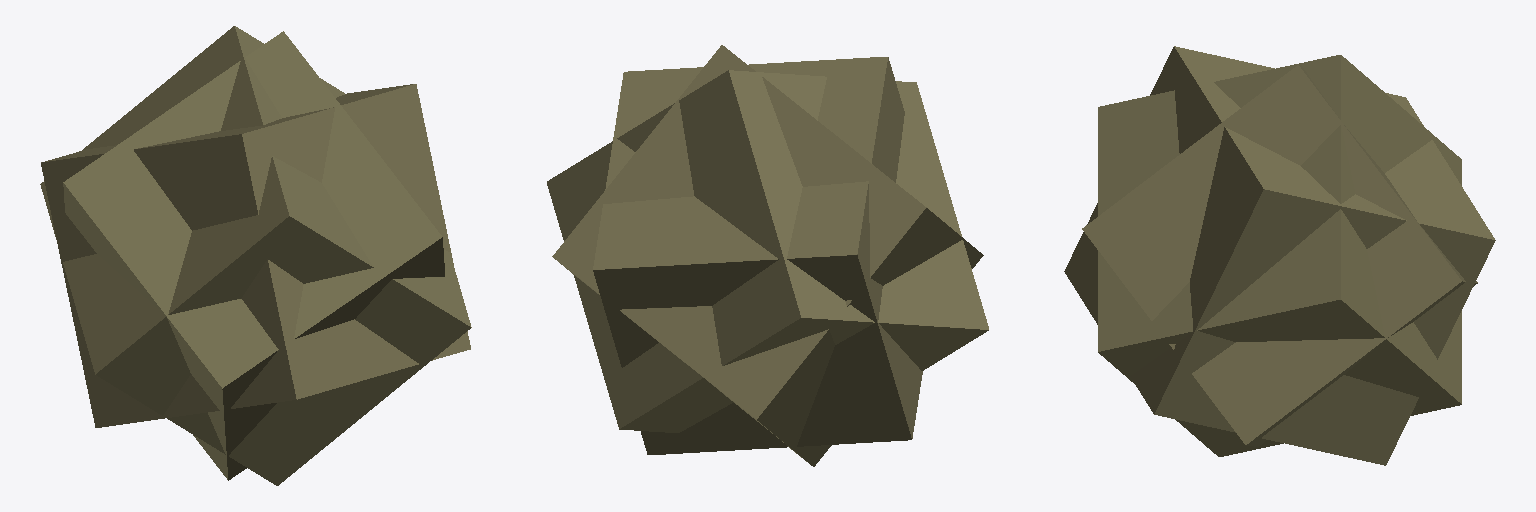
The model's file is goal.obj.
The picture shows the model from 3 angles: view 1: azimuth 30°, elevation 25°; view 2: azimuth 150°, elevation 25°; view 3: azimuth 270°, elevation 25°; orthographic projection.
Visible parts, largest first — view 1: pCube1, pasted__pCube1 group, pasted__pasted__pCube1 pasted__group group1; view 2: pCube1, pasted__pasted__pCube1 pasted__group group1, pasted__pCube1 group; view 3: pasted__pasted__pCube1 pasted__group group1, pCube1, pasted__pCube1 group.
Boxes of the visible parts, <box> form: pCube1: <box>40,26,471,485</box>; pasted__pCube1 group: <box>63,31,444,480</box>; pasted__pasted__pCube1 pasted__group group1: <box>41,84,470,427</box>; pCube1: <box>547,70,988,432</box>; pasted__pasted__pCube1 pasted__group group1: <box>593,57,922,454</box>; pasted__pCube1 group: <box>552,45,983,466</box>; pasted__pasted__pCube1 pasted__group group1: <box>1064,46,1495,465</box>; pCube1: <box>1098,55,1461,456</box>; pasted__pCube1 group: <box>1082,65,1477,446</box>.
Bounding box in the file's own units: 3.25 × 3.4 × 3.17.